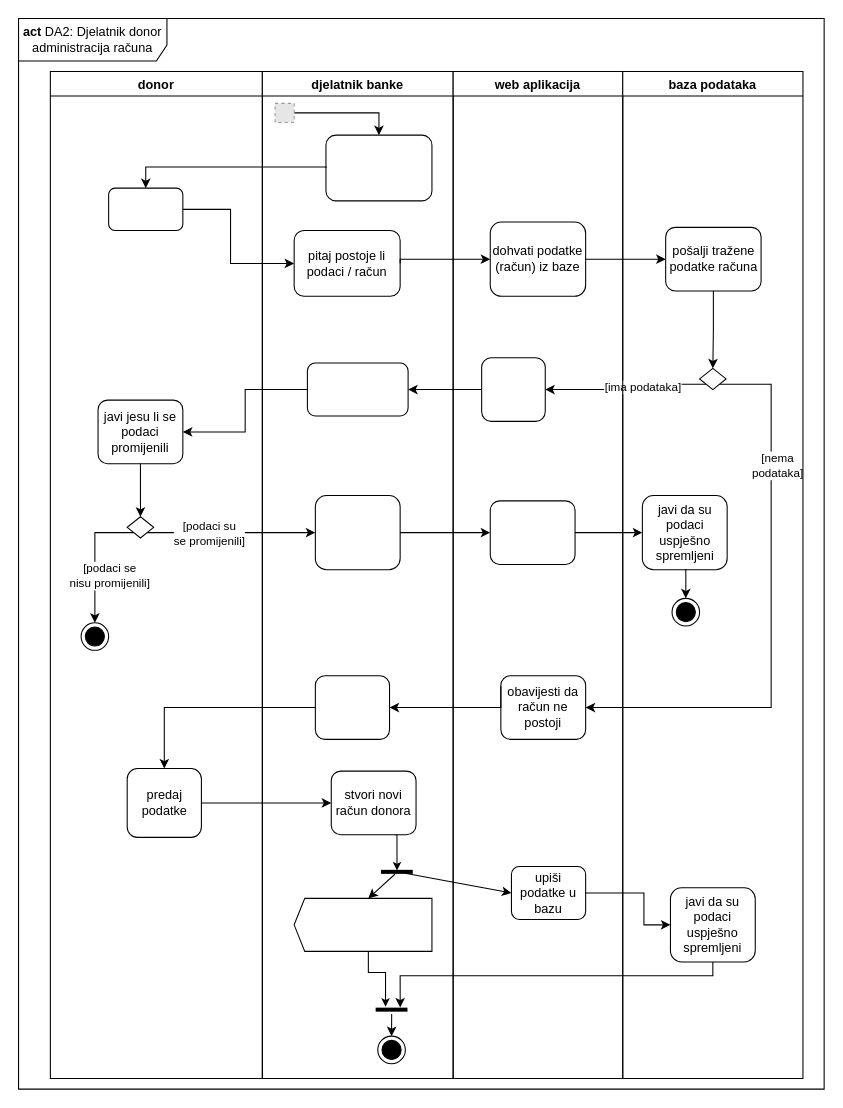
This 843x1108 diagram has some shape labels left out. Grey dashed boxes stand in for pictures. Here are the shapes that lost their labels. From the top down, the box of each, then its label:
(325, 134, 432, 201): zatraži donorID / OIB
(108, 187, 183, 231): daj donorID / OIB
(306, 362, 408, 416): pitaj jesu li se matični podaci mijenjali
(481, 357, 545, 421): prikaži račun donora
(314, 494, 400, 570): unesi promijenjene podatke
(489, 500, 575, 564): upiši promijenjene podatke u bazu
(314, 675, 390, 739): zatraži podatke
(293, 897, 432, 951): <<signal sending>> pošalji email za aktivaciju
